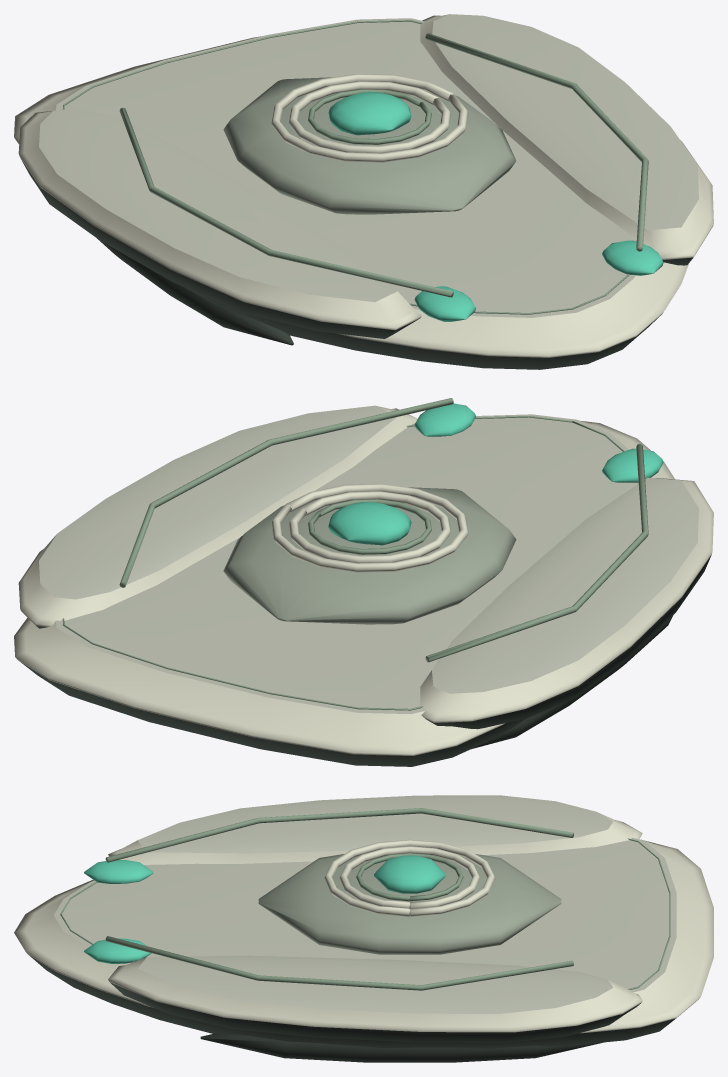
File: NEA0401_source.obj
The picture shows the model from 3 angles, top to bottom: view 1: azimuth 30°, elevation 25°; view 2: azimuth 150°, elevation 25°; view 3: azimuth 270°, elevation 25°; orthographic projection. The views are drawn at different scales.
Parts seen in each view (by area): view 1: NEA0401; view 2: NEA0401; view 3: NEA0401.
Boxes of the visible parts, x1,y1,x2,y2 form: NEA0401: (14,14,713,369); NEA0401: (14,398,713,766); NEA0401: (14,795,713,1062).
Bounding box in the file's own units: 46 × 10.64 × 60.11.
Materials: 1 (1 with a texture image).
